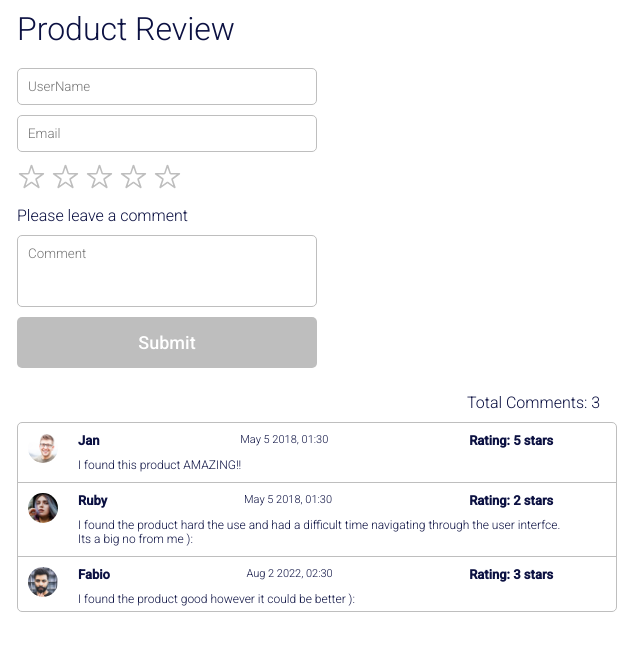
Scenario: Submitting form with a input › submitting name with a input, error should disapear
Submit the form from the button "Submit", box top-left (17, 317), bottom-right (317, 368)
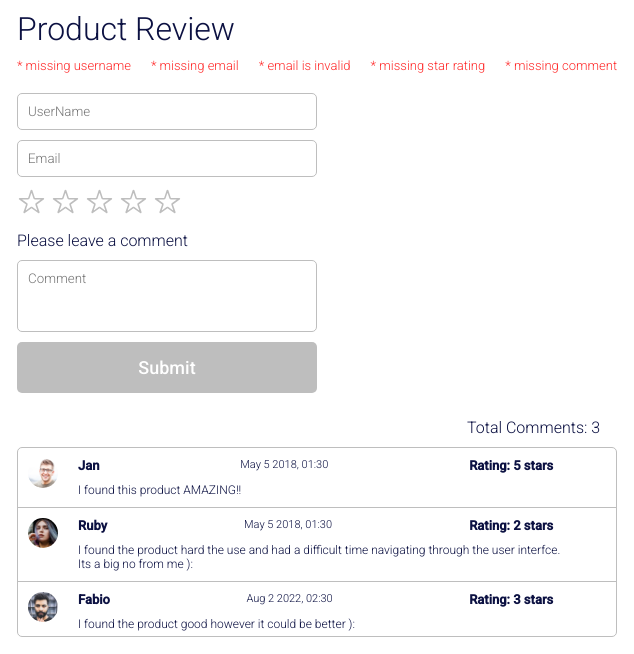
expect the text "* missing username" is shown: met, box top-left (17, 58), bottom-right (131, 73)
Type "Rafael" into the field with placeholder "UserName". click: (167, 112)
box: top-left (17, 93), bottom-right (317, 130)
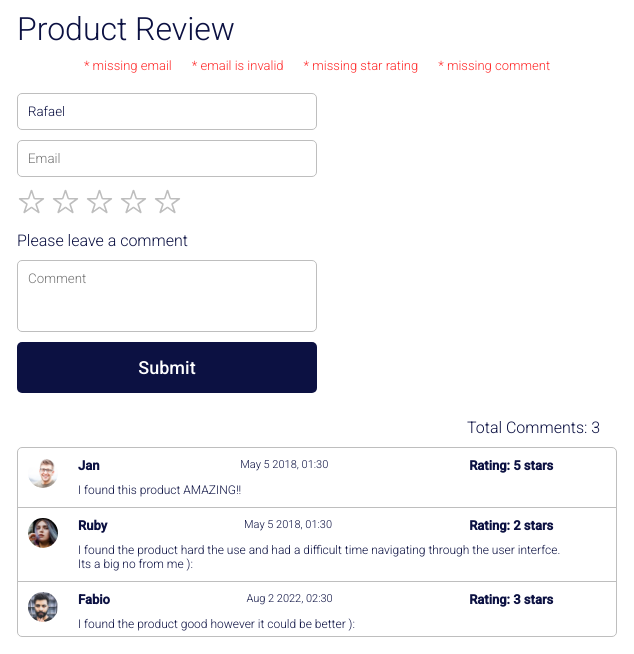
expect the text "missing username" is gone: met
